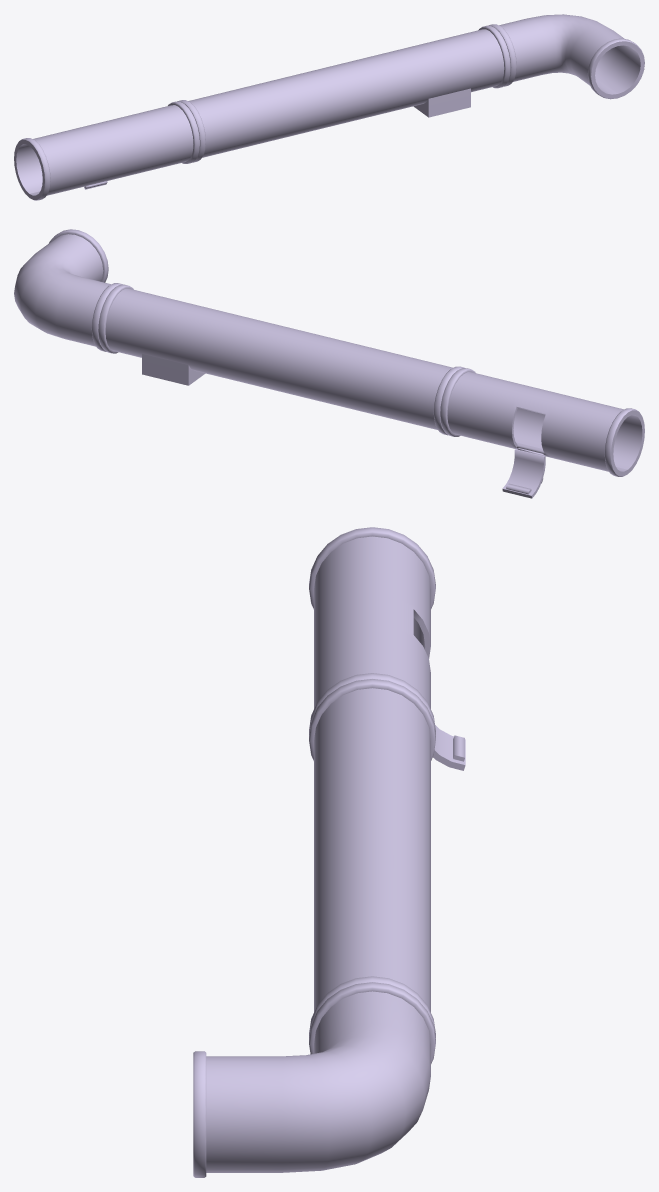
The model's file is vents.fbx.
3 renders of one model, top to bottom at view 1: azimuth 30°, elevation 25°; view 2: azimuth 150°, elevation 25°; view 3: azimuth 270°, elevation 25°, orthographic. The views are drawn at different scales.
Visible parts, largest first — view 1: VentSegment, VentSegmentOpen, VentCorner; view 2: VentSegment, VentSegmentOpen, VentCorner, VentSegmentDoor; view 3: VentSegment, VentCorner, VentSegmentOpen, VentSegmentDoor.
Part boxes in pixels (left/top/right/bottom): VentSegment: left=177, top=25, right=510, bottom=162; VentSegmentOpen: left=14, top=101, right=199, bottom=200; VentCorner: left=488, top=14, right=644, bottom=99; VentSegment: left=98, top=284, right=464, bottom=435; VentSegmentOpen: left=440, top=368, right=644, bottom=476; VentCorner: left=14, top=229, right=122, bottom=351; VentSegmentDoor: left=502, top=448, right=545, bottom=498; VentSegment: left=309, top=679, right=435, bottom=1038; VentCorner: left=193, top=982, right=435, bottom=1177; VentSegmentOpen: left=309, top=527, right=435, bottom=734; VentSegmentDoor: left=433, top=725, right=465, bottom=770.
Bounding box in the file's own units: 1470 × 192 × 303.
